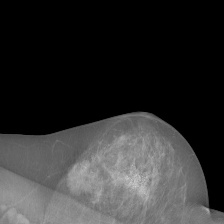Mass_1: (121, 151, 167, 205)
